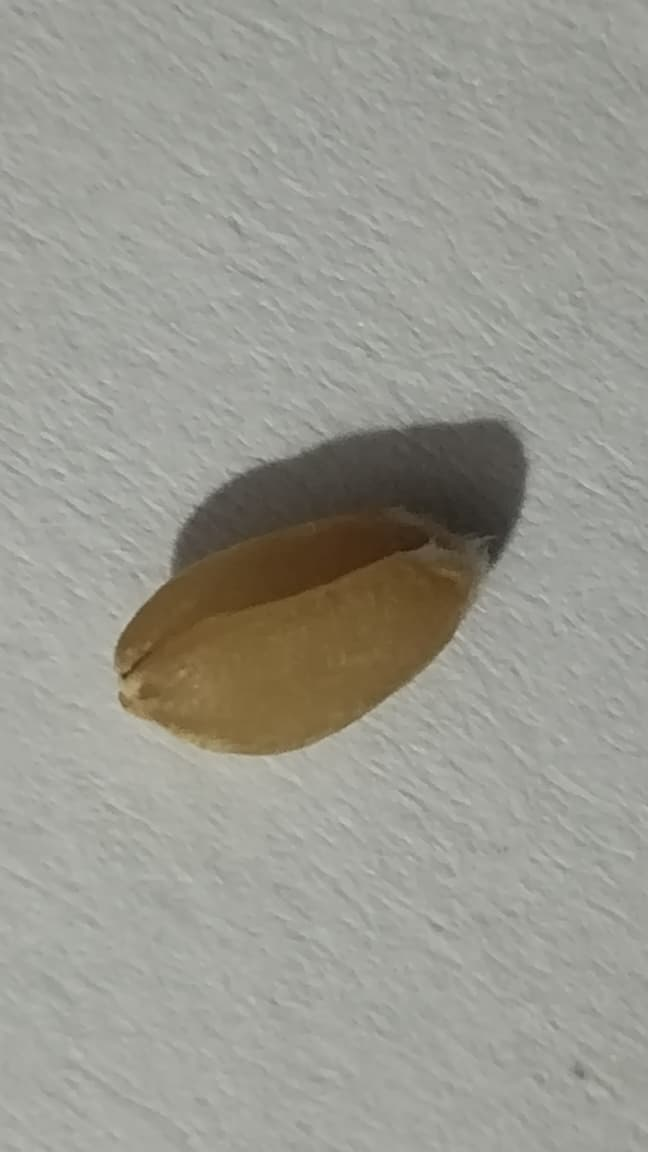healthy: (116, 508, 489, 754)
